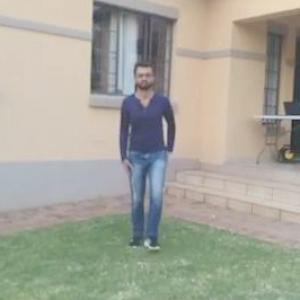follow: (118, 53, 180, 261)
